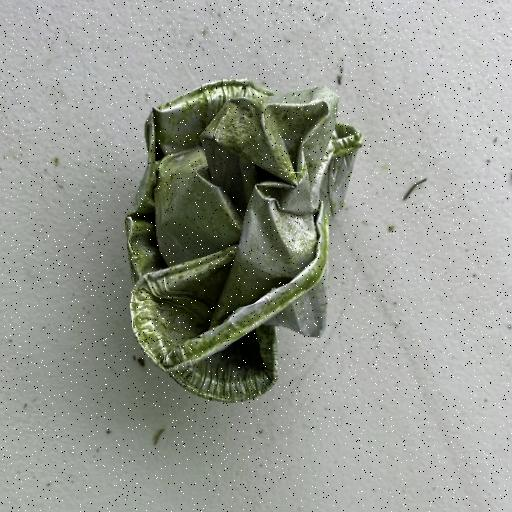Metal: (124, 76, 364, 404)
